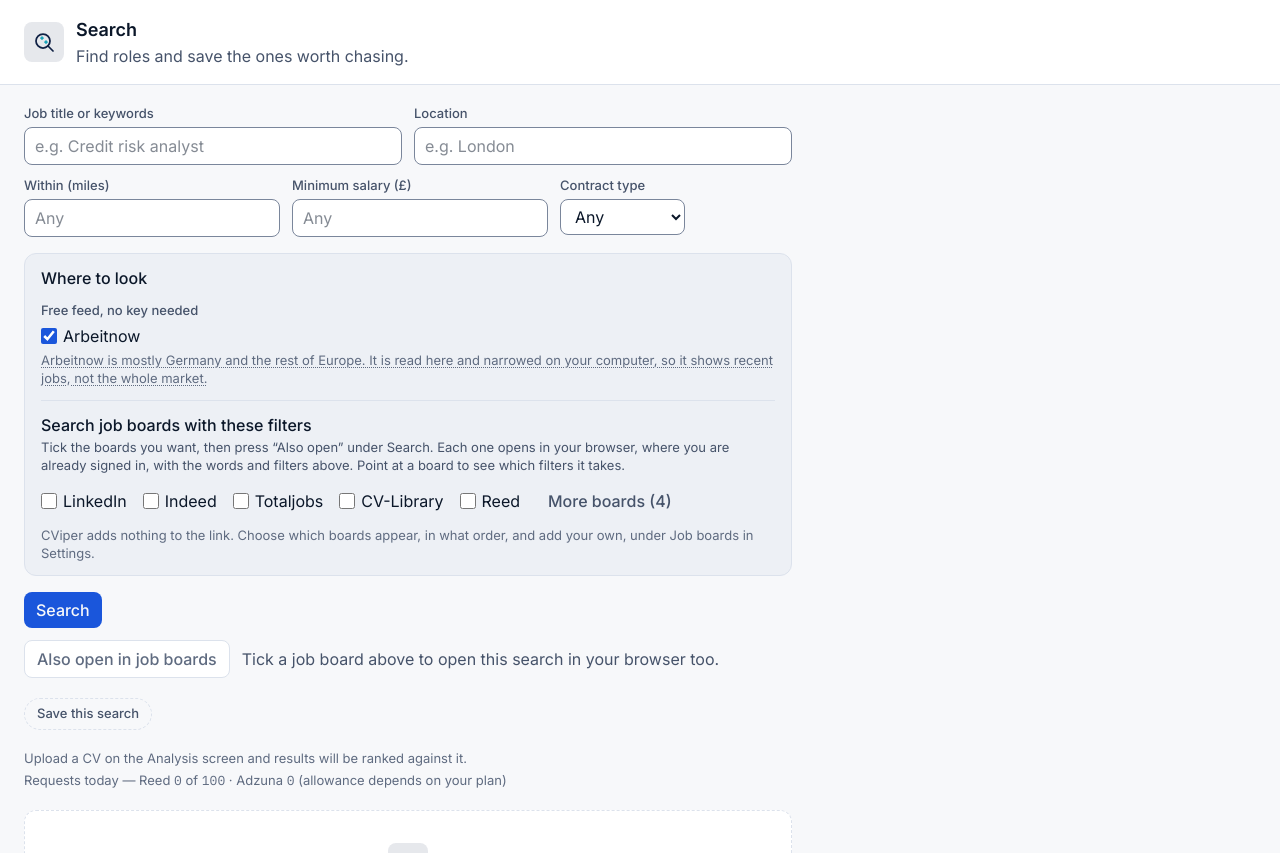
Test: a machine with no keys at all › filters on this machine — a London browse drops the Berlin adverts
The image size is (1280, 853).
Type "London" into the field with test id "search-location".
click(603, 146); type("London")  # box [414, 127, 792, 165]
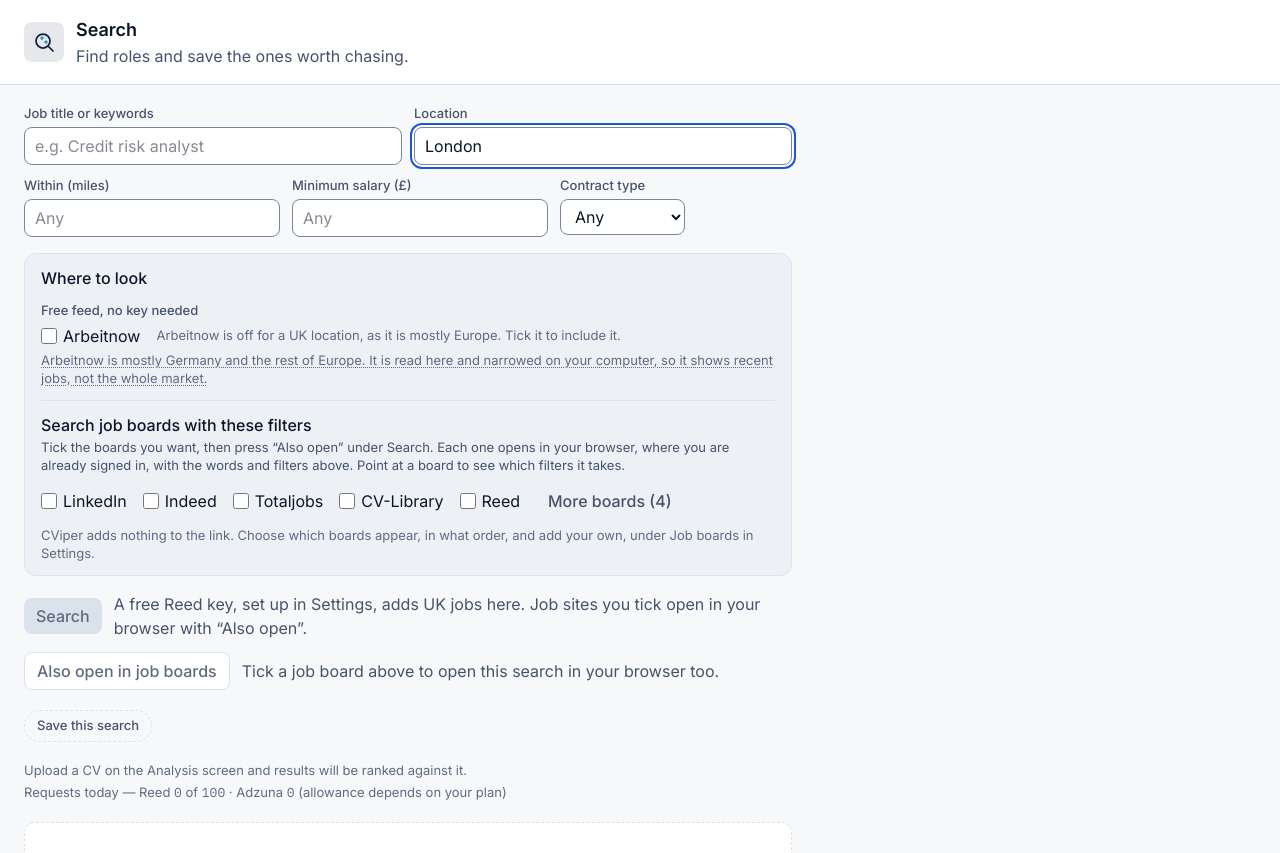
Click the checkbox with test id "keyless-source-arbeitnow".
click(49, 336)  # box [41, 328, 57, 344]
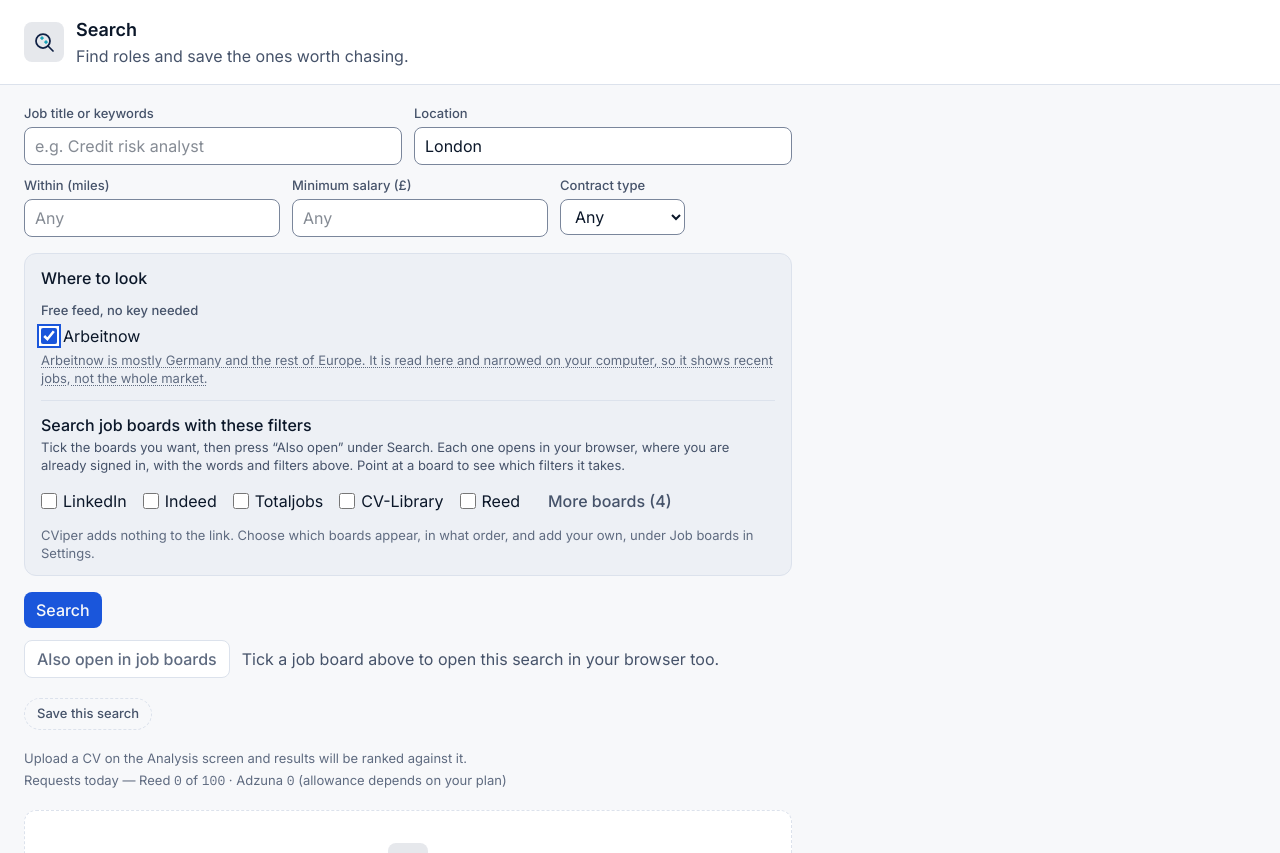
Click the button with test id "search-submit".
click(63, 610)  # box [24, 592, 102, 628]
(page scrolled)
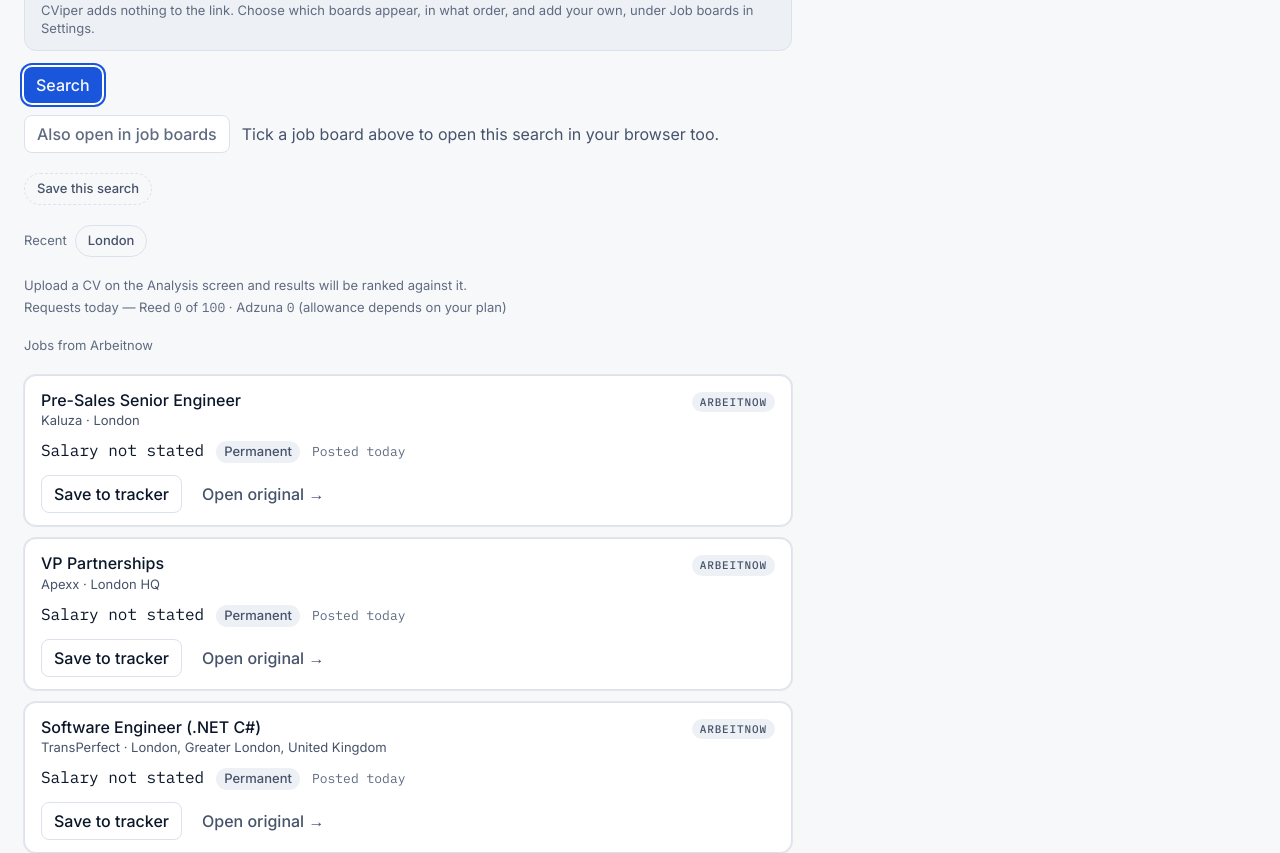
Result: the element with test id "^result-" is shown at [24, 375, 792, 526]
